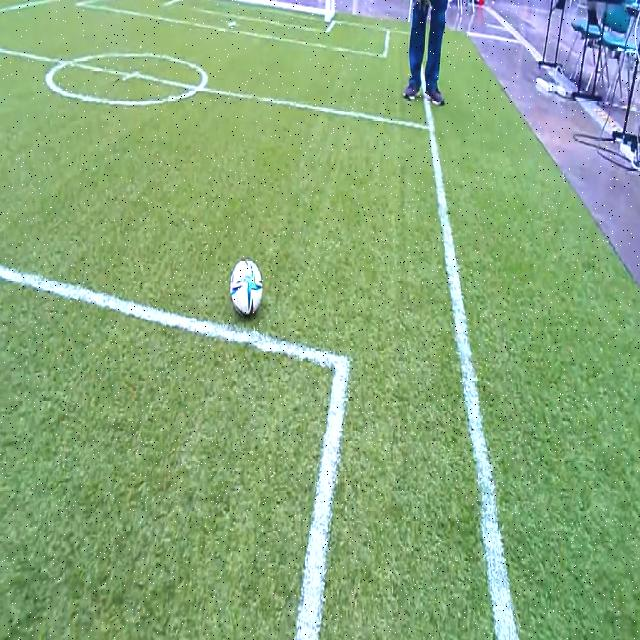ball: (230, 259, 263, 315)
